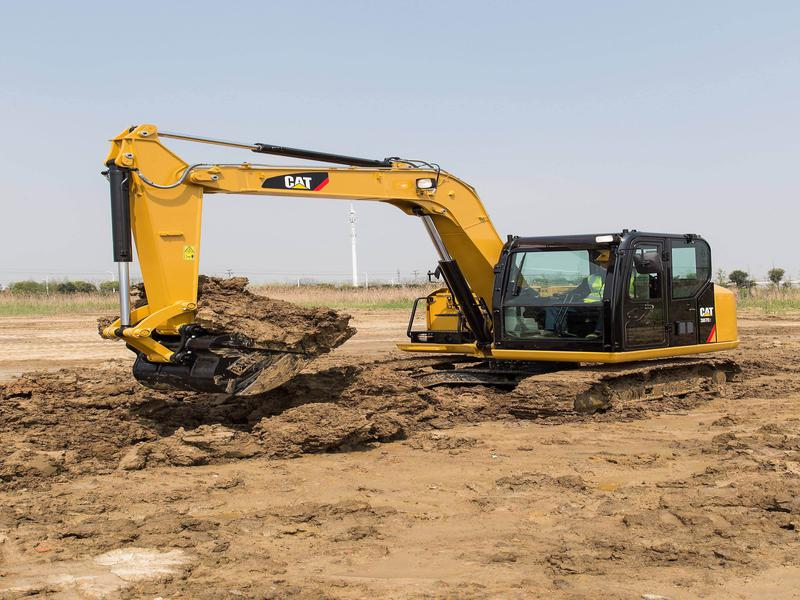shovel: (82, 119, 755, 417)
